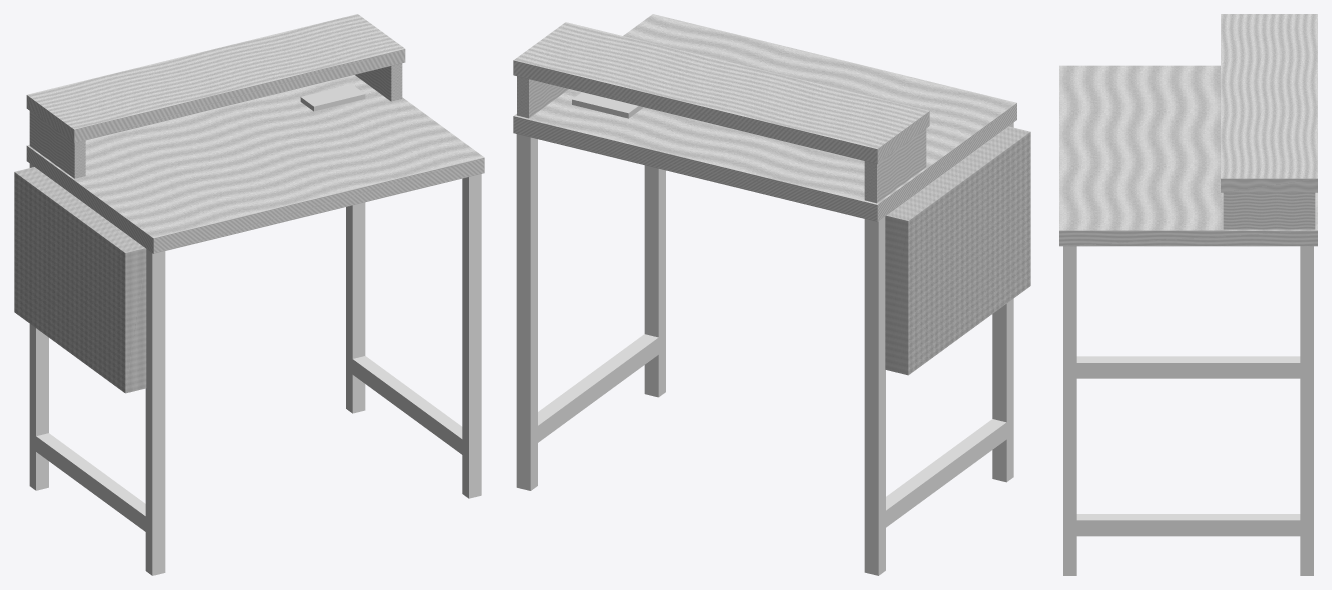
The picture shows the model from 3 angles, left to right: view 1: azimuth 30°, elevation 25°; view 2: azimuth 150°, elevation 25°; view 3: azimuth 270°, elevation 25°; orthographic projection. The views are drawn at different scales.
Parts seen in each view (by area): view 1: 1 tabletop, 11 storage_bag, 2 monitor_stand_top, 5 left_front_leg, 8 right_front_leg, 9 right_back_leg, 10 right_bottom_stretcher, 7 left_bottom_stretcher, 6 left_back_leg, 3 monitor_stand_left_support, 4 monitor_stand_right_support, 12 power_strip; view 2: 1 tabletop, 11 storage_bag, 2 monitor_stand_top, 6 left_back_leg, 9 right_back_leg, 8 right_front_leg, 7 left_bottom_stretcher, 10 right_bottom_stretcher, 5 left_front_leg, 3 monitor_stand_left_support, 4 monitor_stand_right_support, 12 power_strip; view 3: 1 tabletop, 2 monitor_stand_top, 10 right_bottom_stretcher, 7 left_bottom_stretcher, 9 right_back_leg, 8 right_front_leg, 4 monitor_stand_right_support.
Part boxes in pixels (x1,y1,x2,y2): 1 tabletop: (26,75,484,253); 11 storage_bag: (14,167,146,393); 2 monitor_stand_top: (26,14,405,143); 5 left_front_leg: (145,249,165,575); 8 right_front_leg: (462,174,481,498); 9 right_back_leg: (346,202,365,413); 10 right_bottom_stretcher: (351,356,462,454); 7 left_bottom_stretcher: (36,433,145,531); 6 left_back_leg: (29,163,48,490); 3 monitor_stand_left_support: (29,111,85,178); 4 monitor_stand_right_support: (355,63,402,101); 12 power_strip: (300,84,365,111); 1 tabletop: (513,14,1016,221); 11 storage_bag: (885,126,1030,375); 2 monitor_stand_top: (513,22,929,163); 6 left_back_leg: (864,216,885,575); 9 right_back_leg: (516,134,537,490); 8 right_front_leg: (644,165,665,397); 7 left_bottom_stretcher: (882,419,1008,529); 10 right_bottom_stretcher: (534,334,661,443); 5 left_front_leg: (992,122,1013,482); 3 monitor_stand_left_support: (864,129,926,203); 4 monitor_stand_right_support: (517,76,568,118); 12 power_strip: (572,92,642,118); 1 tabletop: (1059,65,1317,246); 2 monitor_stand_top: (1221,14,1317,192); 10 right_bottom_stretcher: (1070,514,1306,536); 7 left_bottom_stretcher: (1076,356,1300,378); 9 right_back_leg: (1300,246,1313,575); 8 right_front_leg: (1063,246,1076,575); 4 monitor_stand_right_support: (1223,192,1315,229).
Size of the model in its own units: 0.8001 by 0.8484 by 0.5004.
4 materials, 2 textured.
